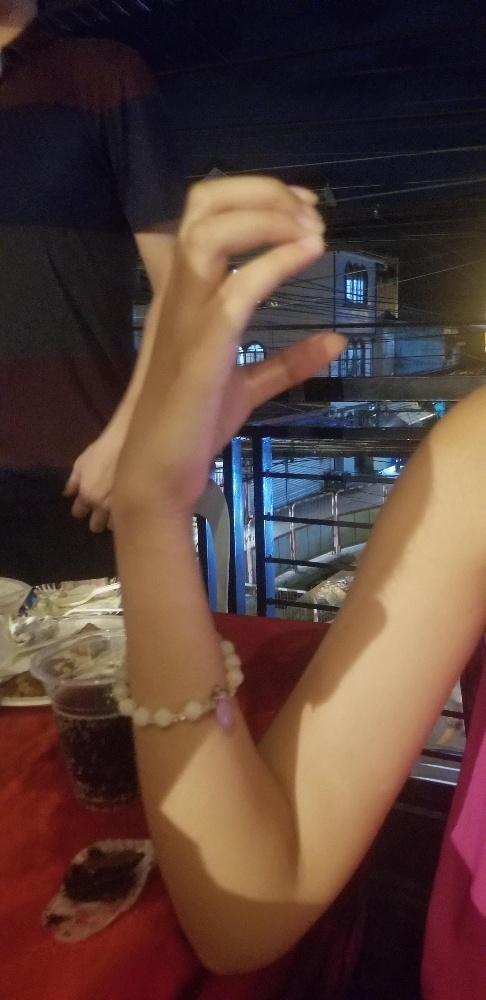c: (172, 173, 343, 492)
